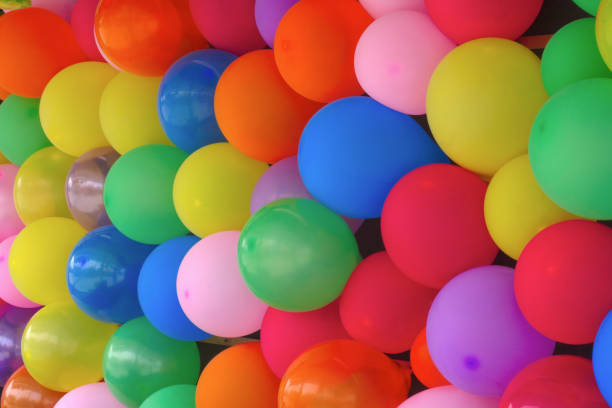Balloon: (427, 266, 550, 391), (427, 38, 537, 163), (379, 164, 500, 277), (238, 197, 354, 312), (512, 220, 612, 344), (531, 79, 612, 222), (217, 50, 303, 161), (279, 338, 409, 408), (93, 1, 204, 75), (355, 13, 433, 113), (104, 145, 184, 242), (104, 317, 201, 391), (22, 304, 109, 385), (68, 225, 140, 321), (1, 9, 77, 96)
